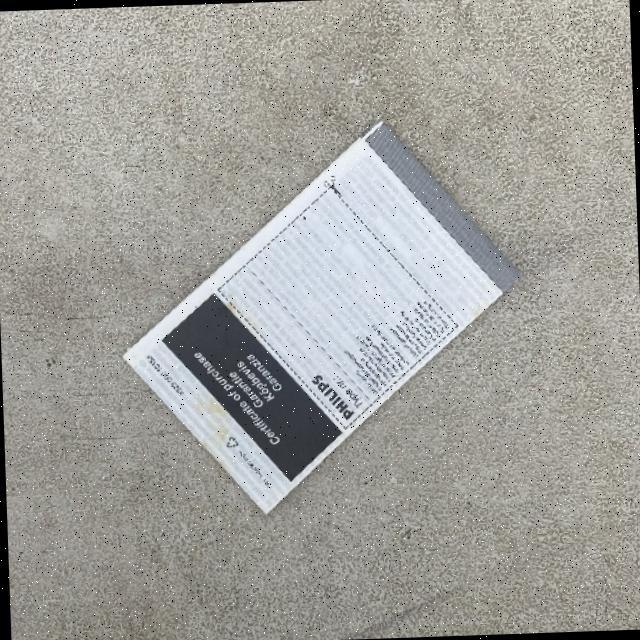paper: (114, 114, 528, 519)
